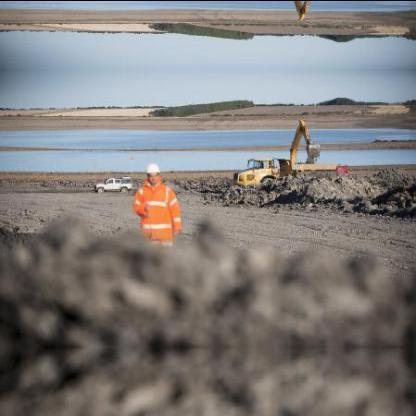Helmet: (144, 160, 160, 184)
